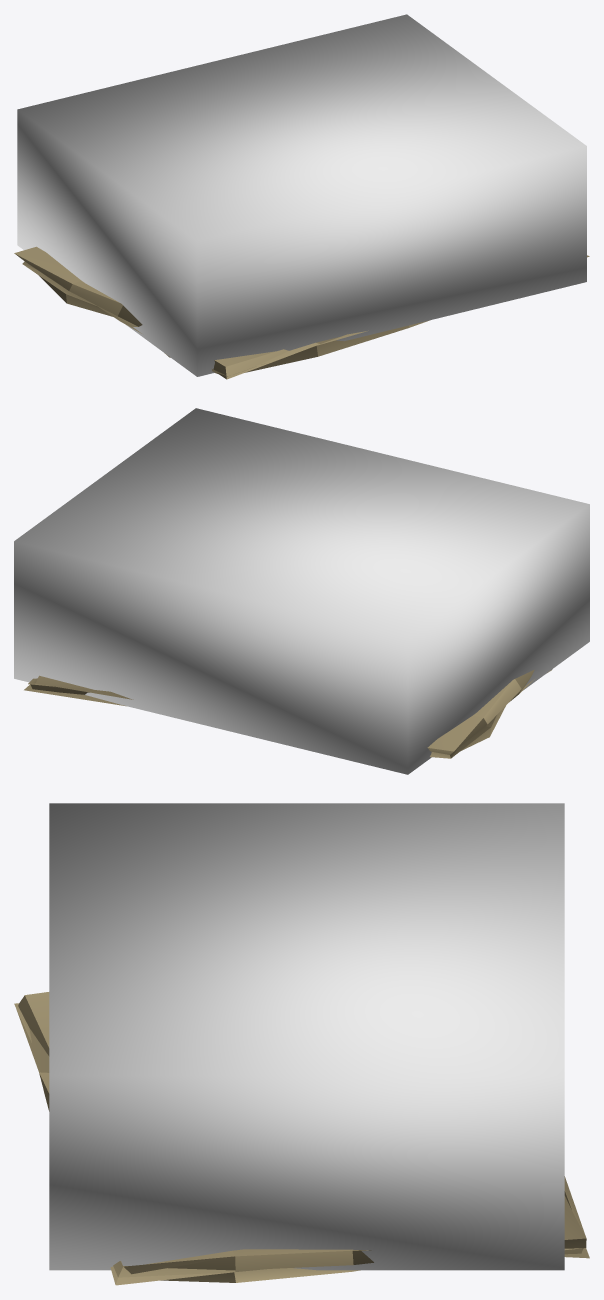
The model's file is papeles.glb.
3 views of the same model, one above another, from view 1: azimuth 30°, elevation 25°; view 2: azimuth 150°, elevation 25°; view 3: azimuth 270°, elevation 25° (orthographic). The views are drawn at different scales.
Visible parts, largest first — view 1: papeles-colcaja, papeles; view 2: papeles-colcaja, papeles; view 3: papeles-colcaja, papeles.
Part boxes in pixels (bbox=[...]): papeles-colcaja: bbox=[17, 14, 586, 376]; papeles: bbox=[14, 246, 589, 379]; papeles-colcaja: bbox=[14, 408, 589, 774]; papeles: bbox=[24, 669, 552, 758]; papeles-colcaja: bbox=[49, 803, 564, 1270]; papeles: bbox=[14, 992, 589, 1285].
Size of the model in its own units: 0.339 by 0.1067 by 0.2682.
